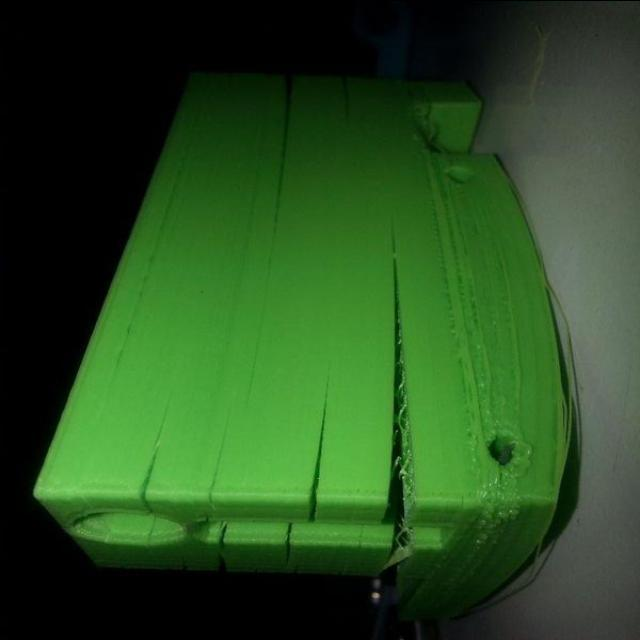cracks: (359, 228, 440, 563), (270, 79, 316, 245), (300, 374, 339, 524), (477, 408, 538, 490), (432, 163, 490, 201), (209, 516, 237, 572), (276, 514, 300, 566)
